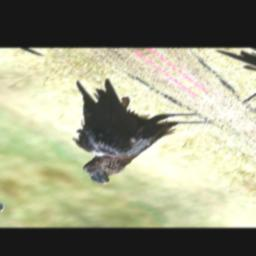Crow: (0, 66, 248, 187)
